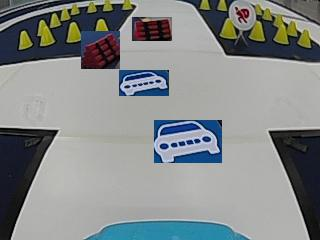thief: (228, 0, 257, 29)
